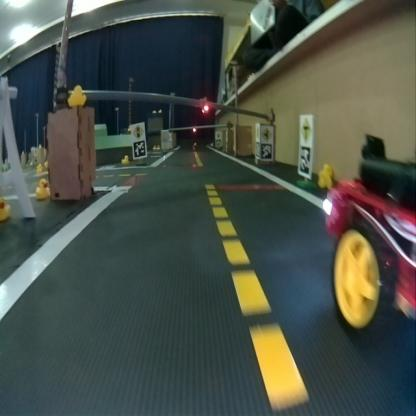Duckie: (69, 88, 84, 106), (36, 178, 48, 198), (122, 155, 127, 162)
Duckiebot: (325, 134, 414, 336)
Intersection sign: (300, 116, 311, 141), (263, 128, 271, 142)
QR code: (298, 147, 310, 177), (133, 142, 145, 157), (260, 144, 272, 158)
Signal sign: (134, 123, 142, 138)
Traffic light: (200, 100, 208, 112), (192, 127, 197, 132)
